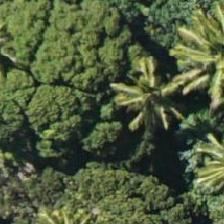coconut_tree: (109, 33, 199, 123)
